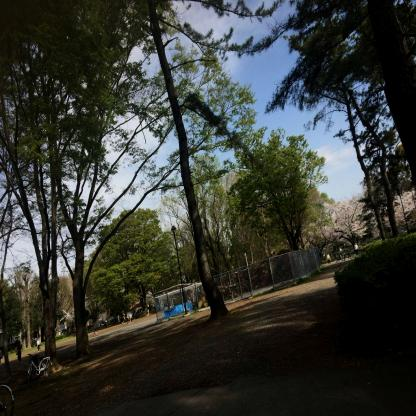Someiyoshino: (306, 185, 378, 251), (384, 183, 416, 232), (57, 302, 79, 330)
